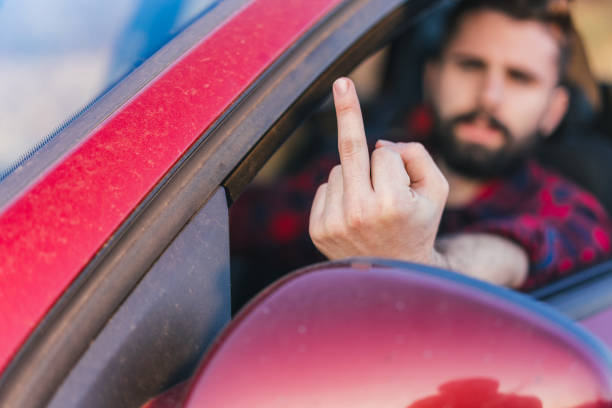insulting_gesture: (307, 69, 449, 255)
